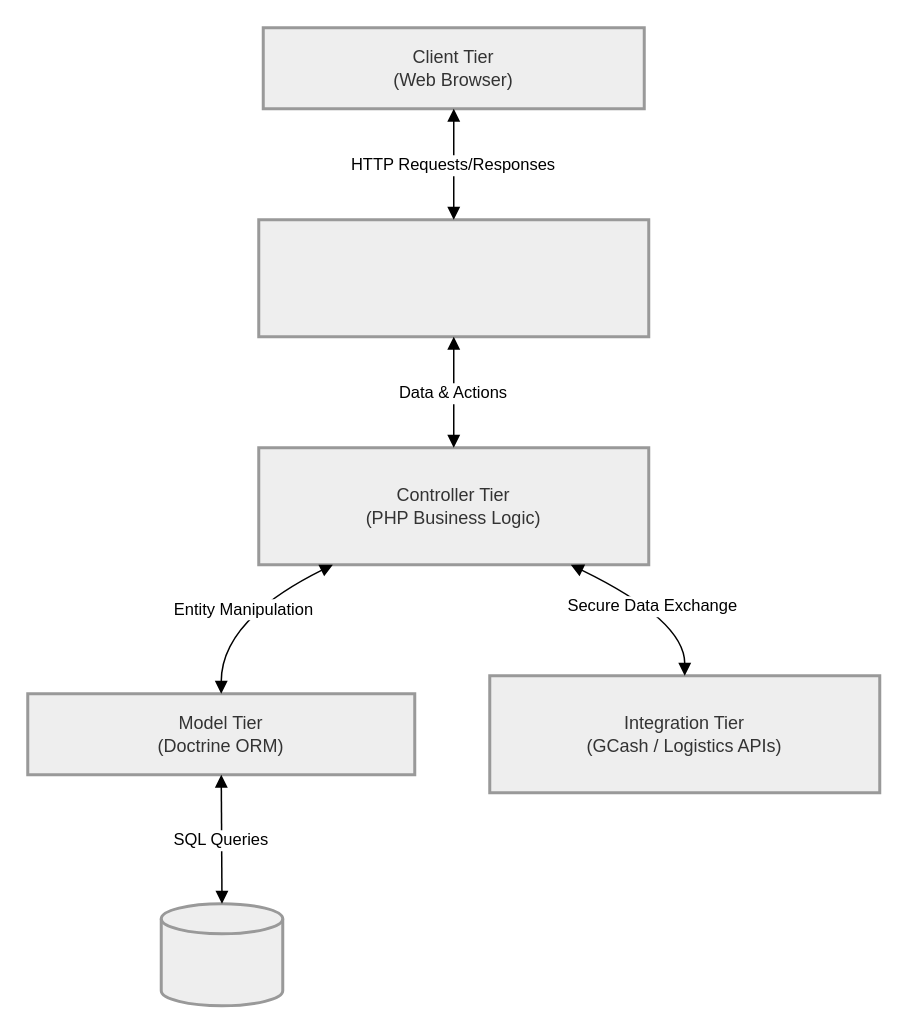
This 906x1032 diagram has some shape labels left out. The centre of each missing label's shape, as x and y in pixels:
"Database" belongs at point 221,954.
"View Tier (Twig Templates)" belongs at point 453,278.
